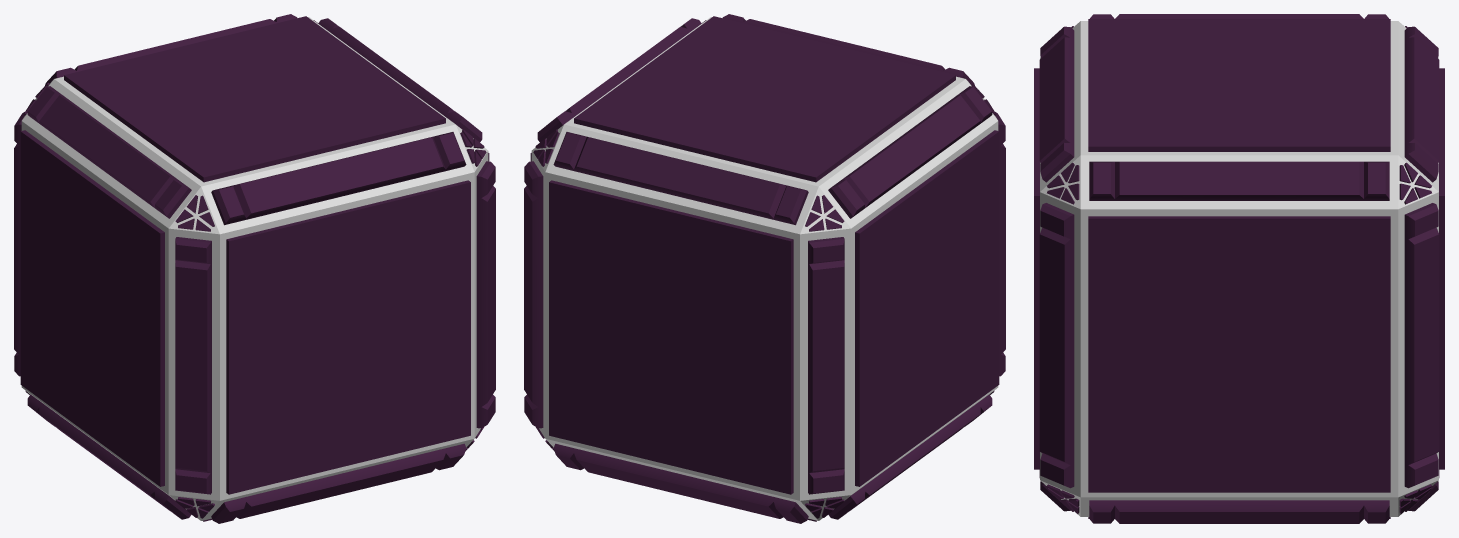
The picture shows the model from 3 angles, left to right: view 1: azimuth 30°, elevation 25°; view 2: azimuth 150°, elevation 25°; view 3: azimuth 270°, elevation 25°; orthographic projection. The views are drawn at different scales.
Parts seen in each view (by area): view 1: cubeSmallLow; view 2: cubeSmallLow; view 3: cubeSmallLow.
Boxes of the visible parts, x1,y1,x2,y2 form: cubeSmallLow: (14,14,495,523); cubeSmallLow: (524,14,1005,523); cubeSmallLow: (1034,14,1444,523).
Size of the model in its own units: 206 by 206 by 206.
